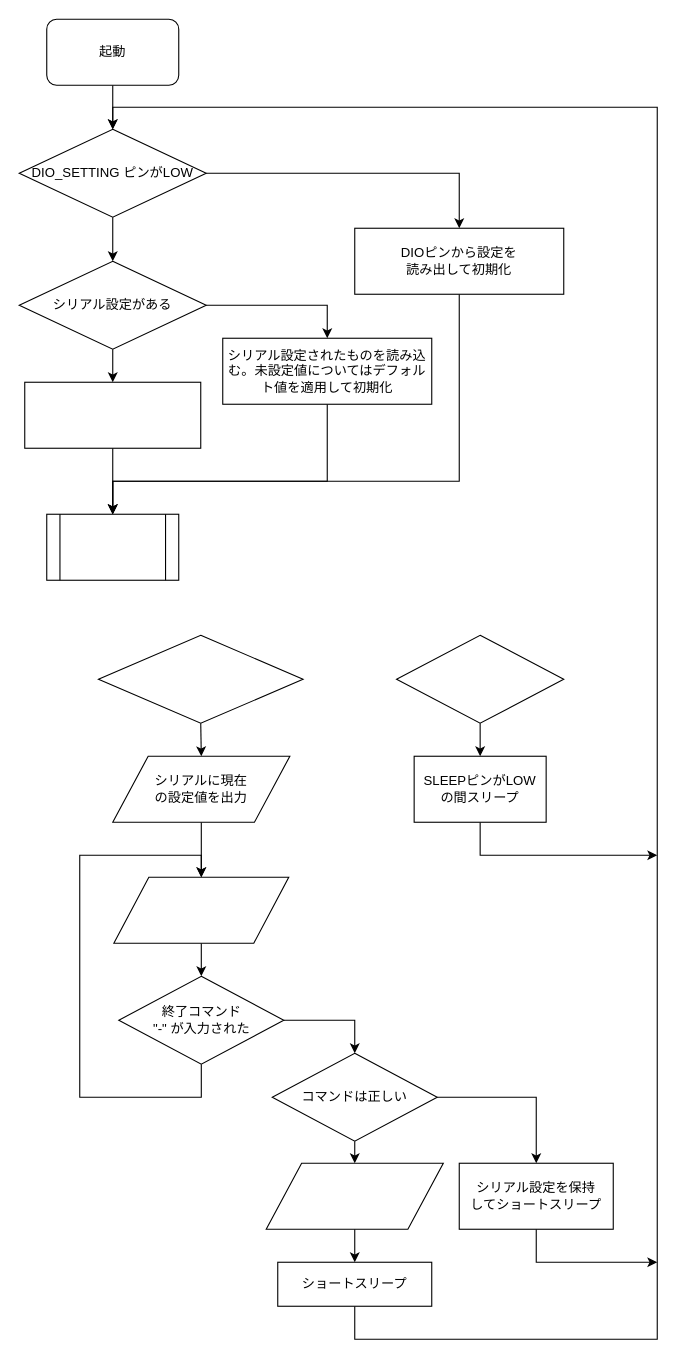
This 685x1367 diagram has some shape labels left out. Each missing label, with the centre of its shape:
SLEEPピンがLOW: the point at 479,678
シリアルからの設定 コマンドを受け付け: the point at 201,909
シリアルにエラー メッセージを出力: the point at 354,1195
シリアルへの最初の入力が "+++WSS" の場合: the point at 200,678
デフォルト設定値で初期化: the point at 112,414
メインループ: the point at 112,546
